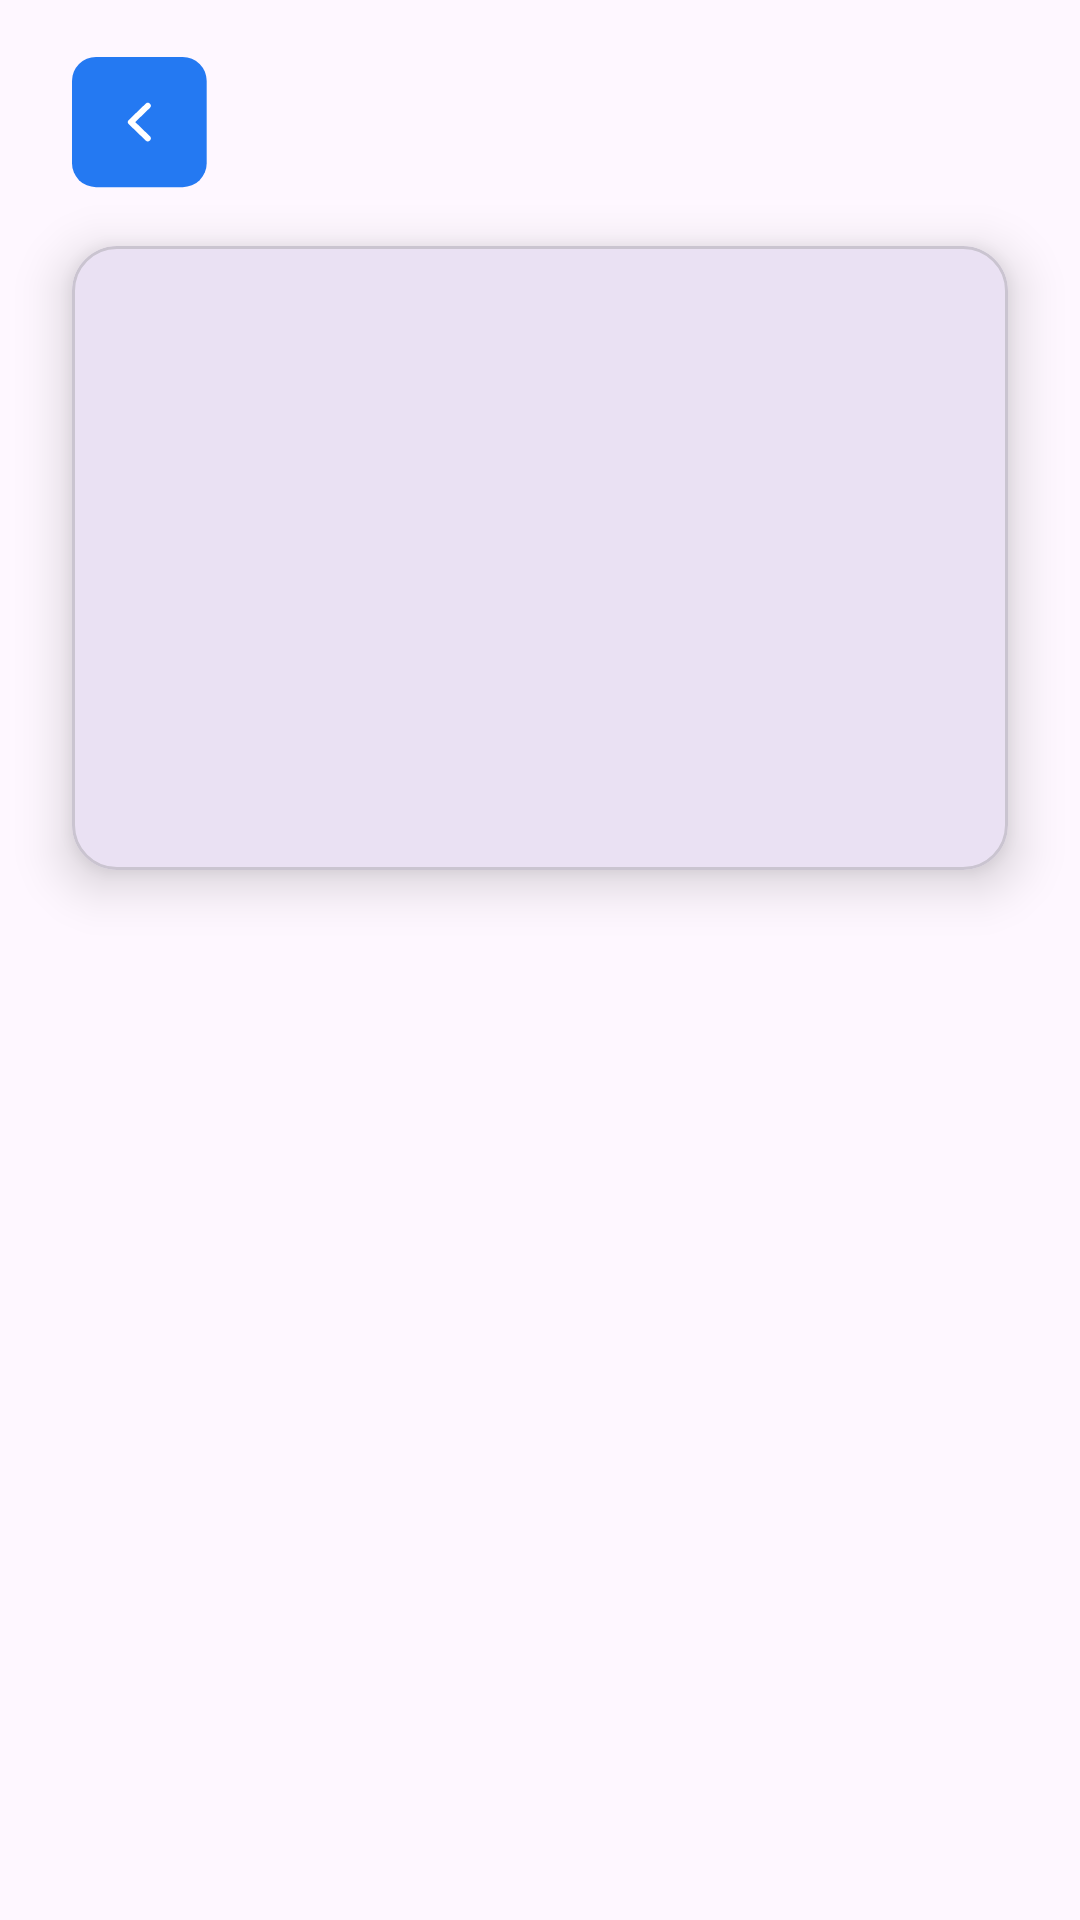

Point at icon controls on the screen. Image size 1080w x 1920h, points as (x=x, y=y).
back: (x=139, y=122)
